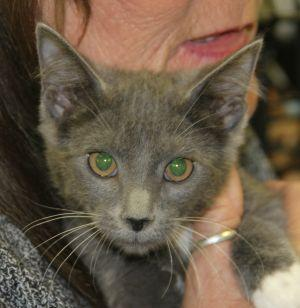rblue: (23, 3, 264, 273)
